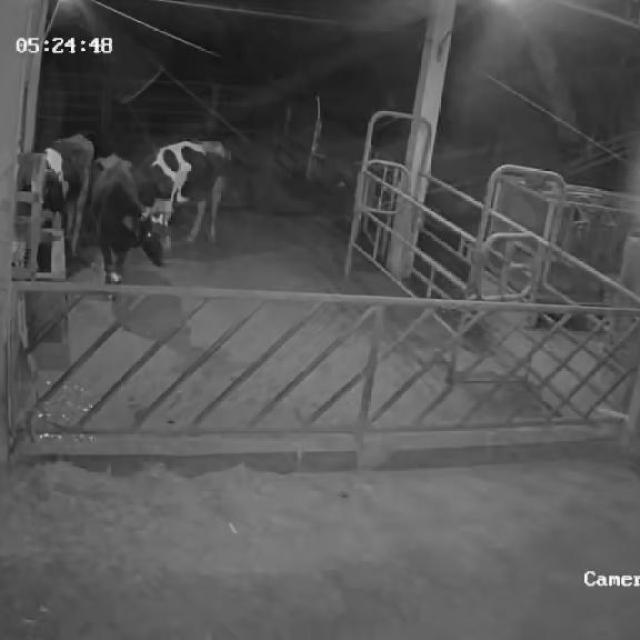standing: (91, 152, 167, 284), (32, 128, 94, 268), (150, 141, 232, 245)
